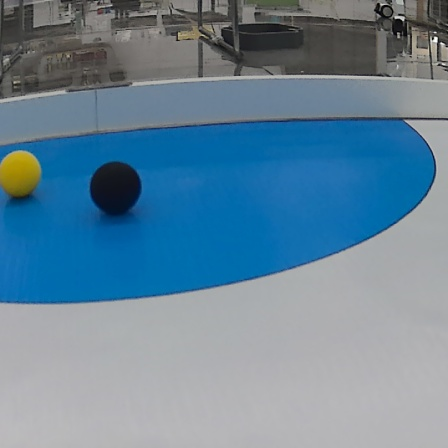black: (88, 159, 140, 215)
blue_base: (0, 116, 444, 304)
yellow: (0, 151, 43, 199)
